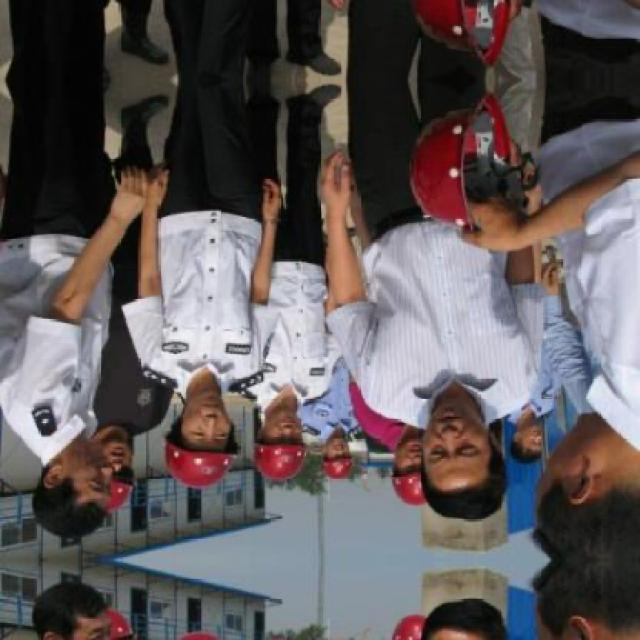con casco: (160, 368, 254, 501), (230, 393, 336, 505), (335, 465, 433, 530)
sin casco: (376, 93, 562, 289), (529, 422, 640, 610), (34, 403, 130, 541)
